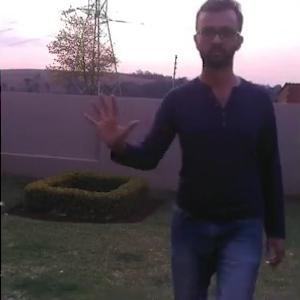follow_hand: (80, 89, 142, 151)
